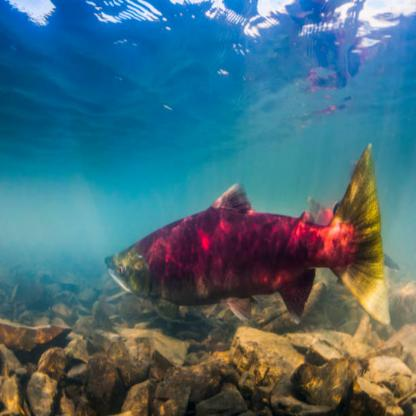sockeye: (107, 143, 389, 312)
